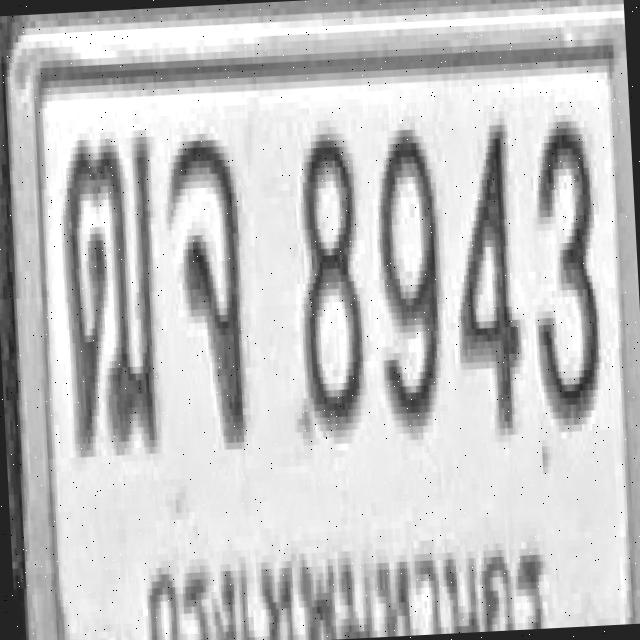17ChorChan: (164, 132, 249, 446)
27ThorPhuThao: (58, 130, 167, 458)
3: (524, 114, 604, 426)
4: (448, 118, 526, 437)
8: (289, 122, 367, 436)
9: (371, 122, 449, 434)
